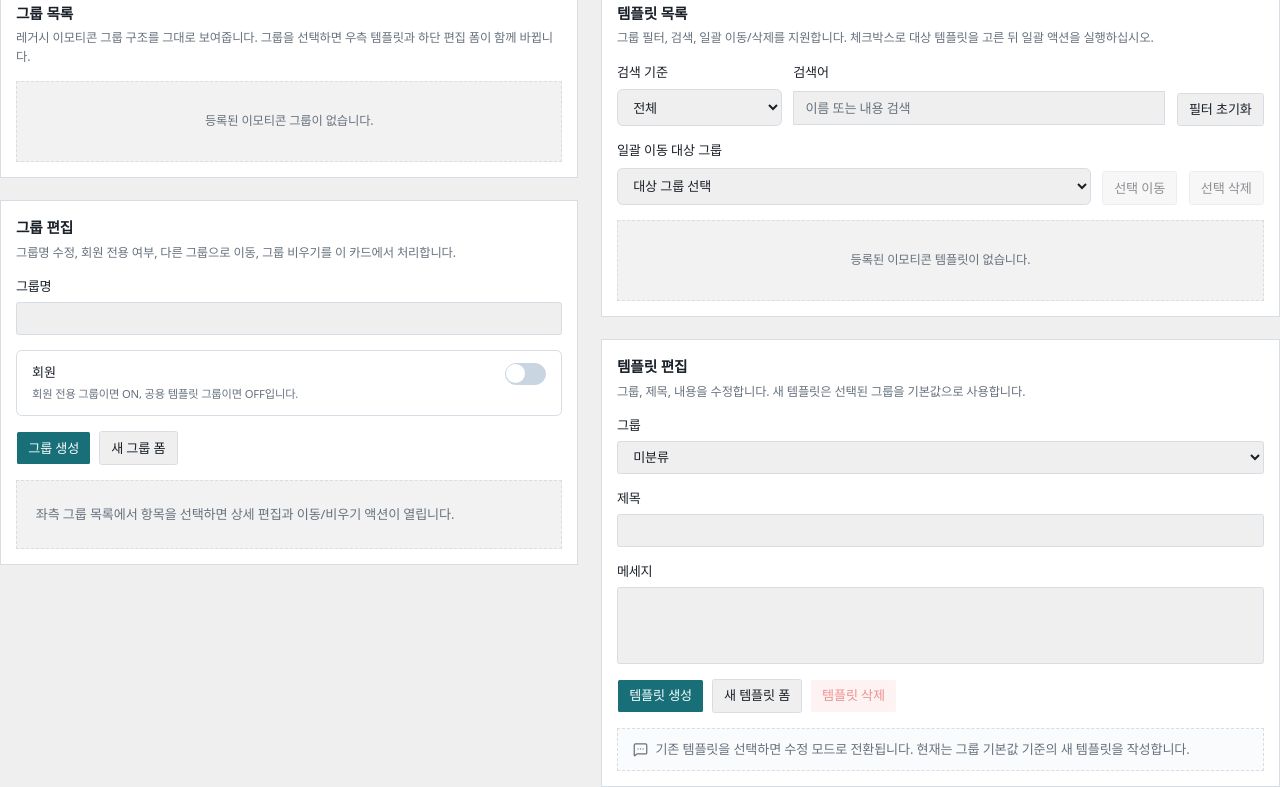
Test case: AdminSmsTemplatesPage › shows validation errors before creating a template
The image size is (1280, 787).
(page scrolled)
Click the button "템플릿 생성" at (661, 696), box [617, 679, 704, 713]
(page scrolled)
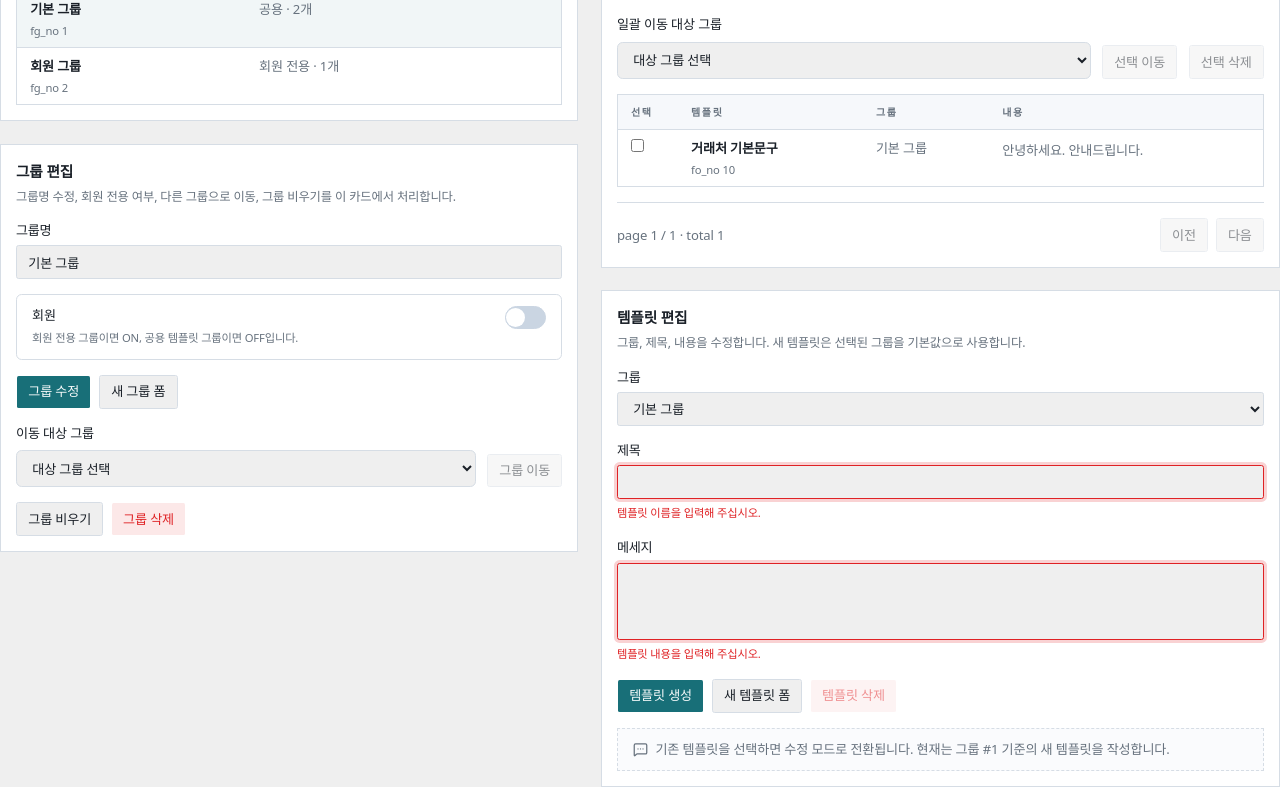
Check: the text "템플릿 이름을 입력해 주십시오." is shown, box [617, 505, 761, 520]
Check: the text "템플릿 내용을 입력해 주십시오." is shown, box [617, 646, 761, 661]
